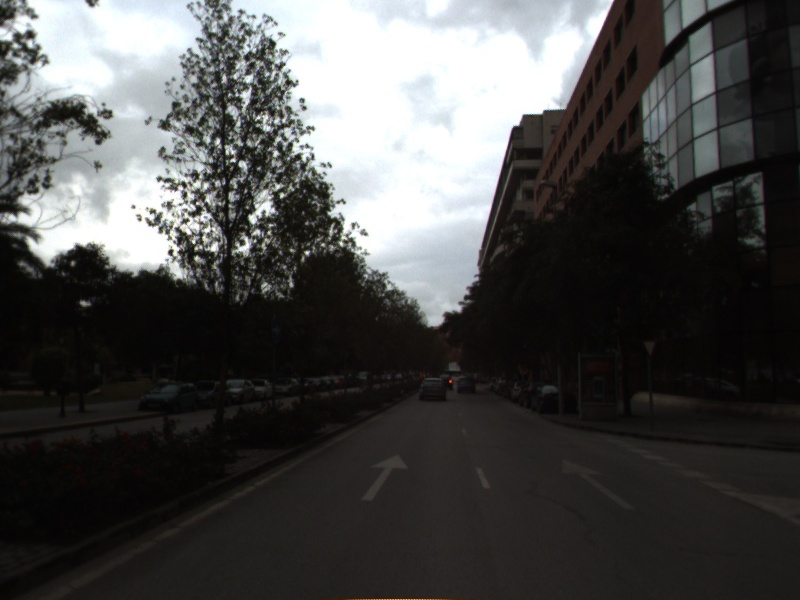STRAIGHT: (559, 457, 638, 512), (358, 452, 412, 503)
